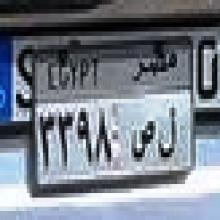3: (56, 108, 75, 169), (37, 110, 55, 174)
8: (94, 103, 112, 169)
9: (77, 104, 92, 164)
laam: (158, 103, 178, 164)
saad: (132, 113, 156, 161)
